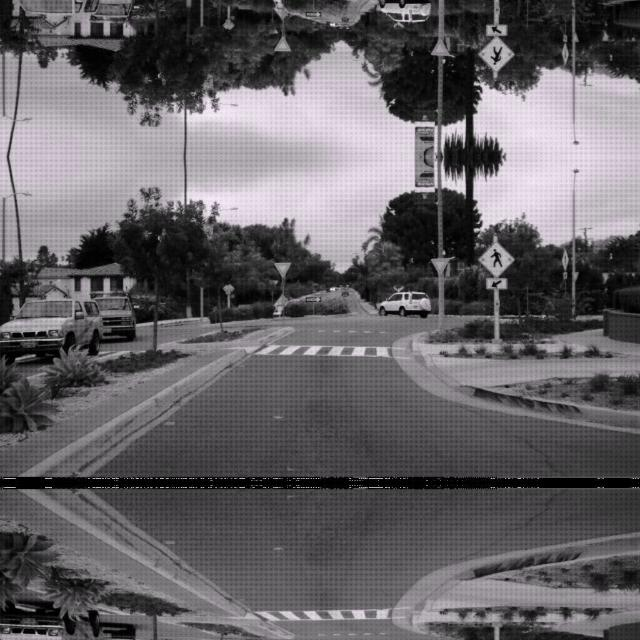pedestrianCrossing: (477, 239, 515, 277), (477, 35, 515, 73)
yield: (430, 255, 450, 272), (430, 40, 450, 56), (274, 260, 290, 276), (274, 36, 290, 52)
